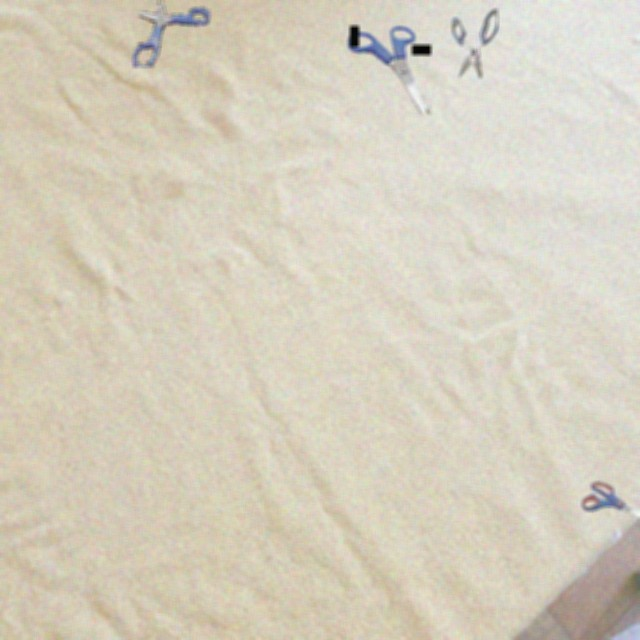scissors: (348, 26, 431, 115), (133, 1, 210, 67), (452, 9, 498, 78), (582, 482, 640, 526)
